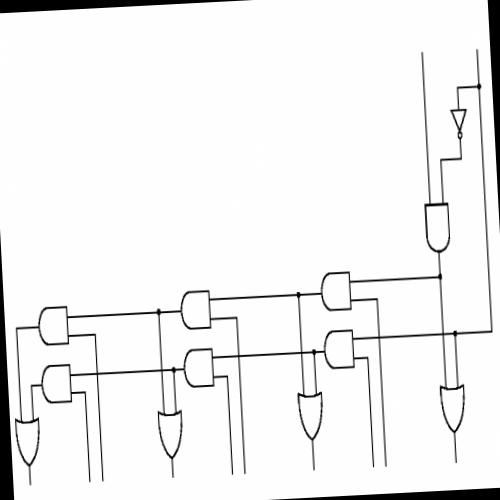and: (30, 294, 80, 358), (416, 187, 456, 266), (312, 259, 359, 322), (172, 279, 218, 341), (317, 314, 359, 378), (176, 339, 221, 397), (36, 353, 80, 412)
not: (442, 96, 472, 150)
or: (431, 366, 473, 450), (146, 398, 192, 470), (289, 379, 329, 452), (8, 408, 46, 472)
